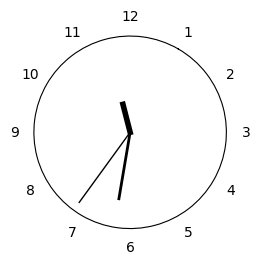12: (123, 9, 139, 22)
circle: (34, 36, 227, 229)
hours: (120, 100, 134, 135)
minutes: (117, 137, 131, 200)
seconds: (78, 136, 128, 203)
